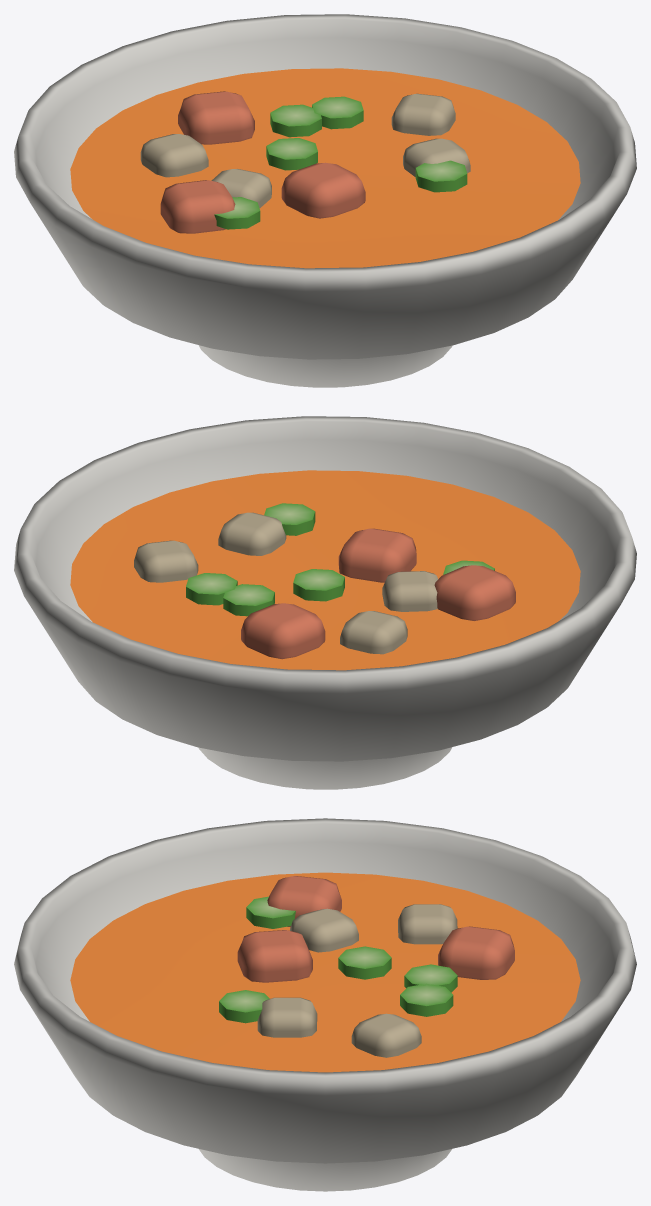
File: item_dish_tom_yum.glb
The picture shows the model from 3 angles, top to bottom: view 1: azimuth 30°, elevation 25°; view 2: azimuth 150°, elevation 25°; view 3: azimuth 270°, elevation 25°; orthographic projection.
Visible parts, largest first — view 1: item_dish_tom_yum_main, item_dish_tom_yum_gloss; view 2: item_dish_tom_yum_main, item_dish_tom_yum_gloss; view 3: item_dish_tom_yum_main, item_dish_tom_yum_gloss.
Part boxes in pixels (left/top/right/bottom): item_dish_tom_yum_main: left=14, top=14, right=636, bottom=387; item_dish_tom_yum_gloss: left=70, top=68, right=580, bottom=268; item_dish_tom_yum_main: left=14, top=416, right=636, bottom=789; item_dish_tom_yum_gloss: left=70, top=470, right=580, bottom=670; item_dish_tom_yum_main: left=14, top=818, right=636, bottom=1191; item_dish_tom_yum_gloss: left=70, top=872, right=580, bottom=1072.
Size of the model in its own units: 0.21 by 0.07 by 0.21.
